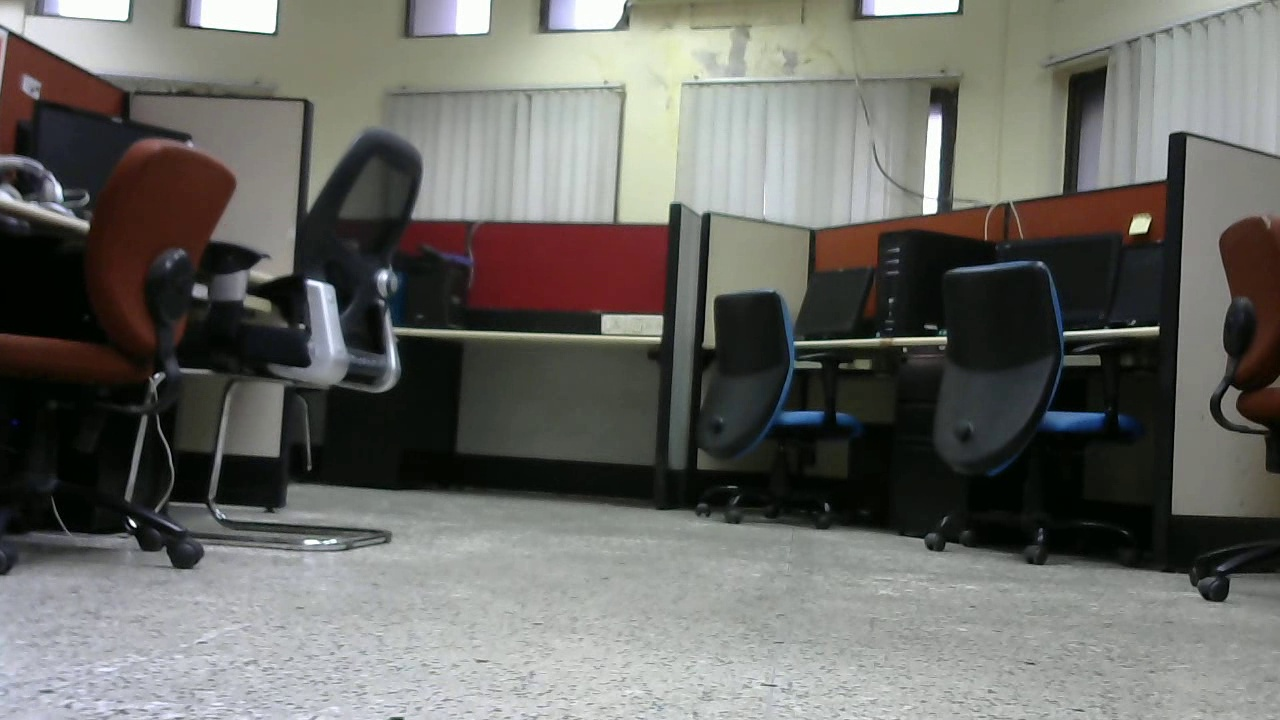chair: (1, 134, 232, 572), (236, 124, 431, 552), (915, 259, 1137, 571), (686, 282, 871, 534)
